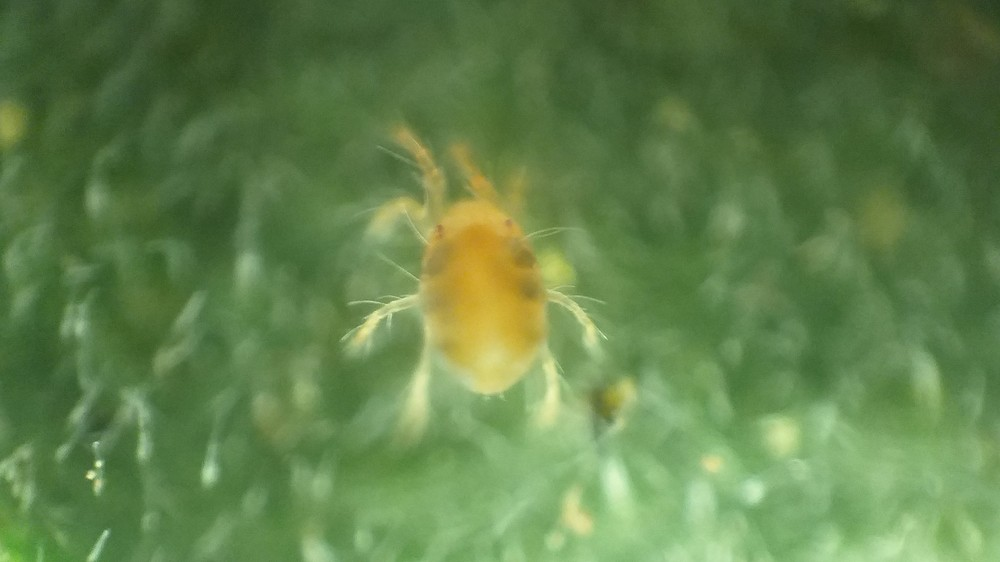Aracnido Rojo: (342, 114, 638, 437)
